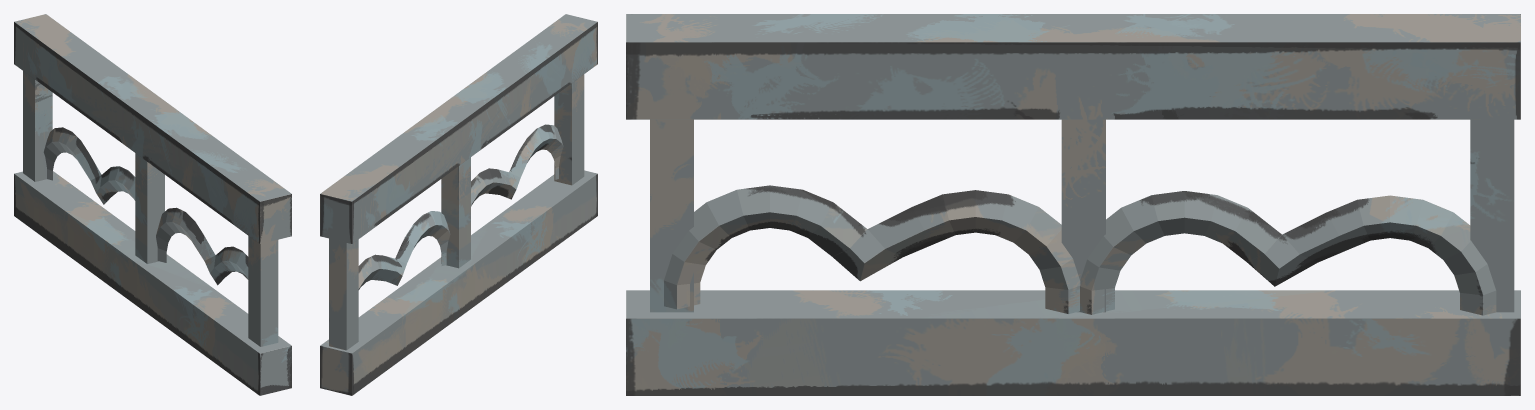
File: 1-Fence.fbx
3 renders of one model, left to right at view 1: azimuth 30°, elevation 25°; view 2: azimuth 150°, elevation 25°; view 3: azimuth 270°, elevation 25°, orthographic. The views are drawn at different scales.
Parts seen in each view (by area): view 1: Cube.006; view 2: Cube.006; view 3: Cube.006.
Boxes of the visible parts, left/top/right/bottom form: Cube.006: left=14, top=14, right=291, bottom=395; Cube.006: left=320, top=14, right=597, bottom=395; Cube.006: left=626, top=14, right=1520, bottom=395.
Size of the model in its own units: 20 by 116 by 266.
1 material, 1 textured.
